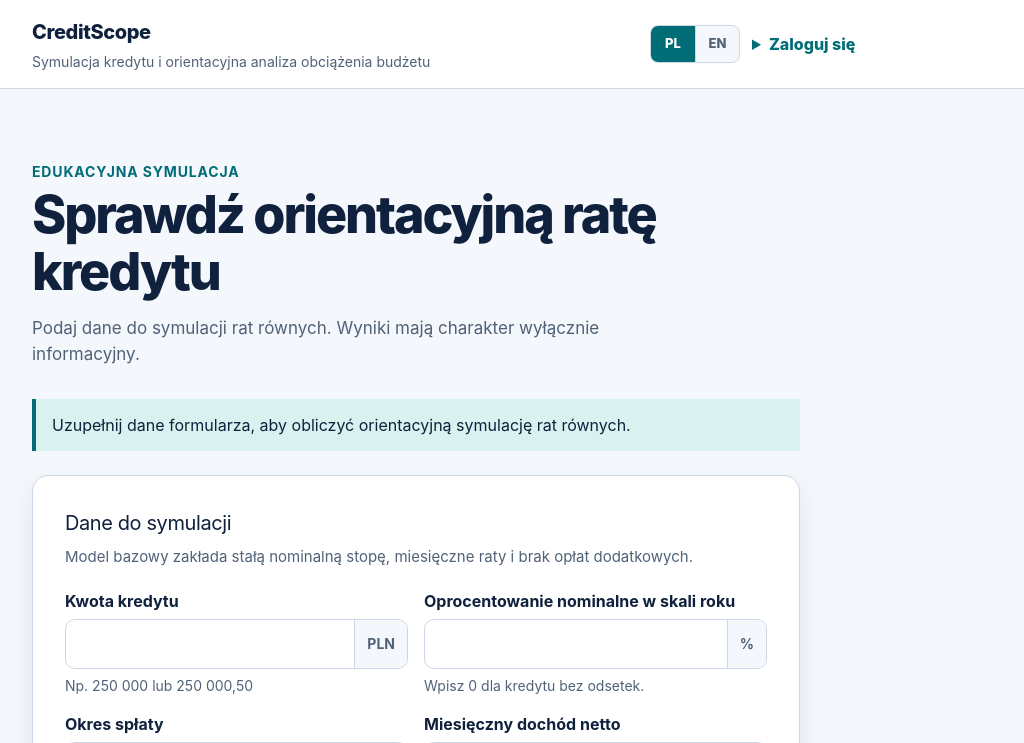
Test: LanguageSwitcher › changes the visible language, document locale, and saved preference without resetting the form
Type "120000" into the field labelled "Kwota kredytu" at (210, 644), box [66,620,354,668]
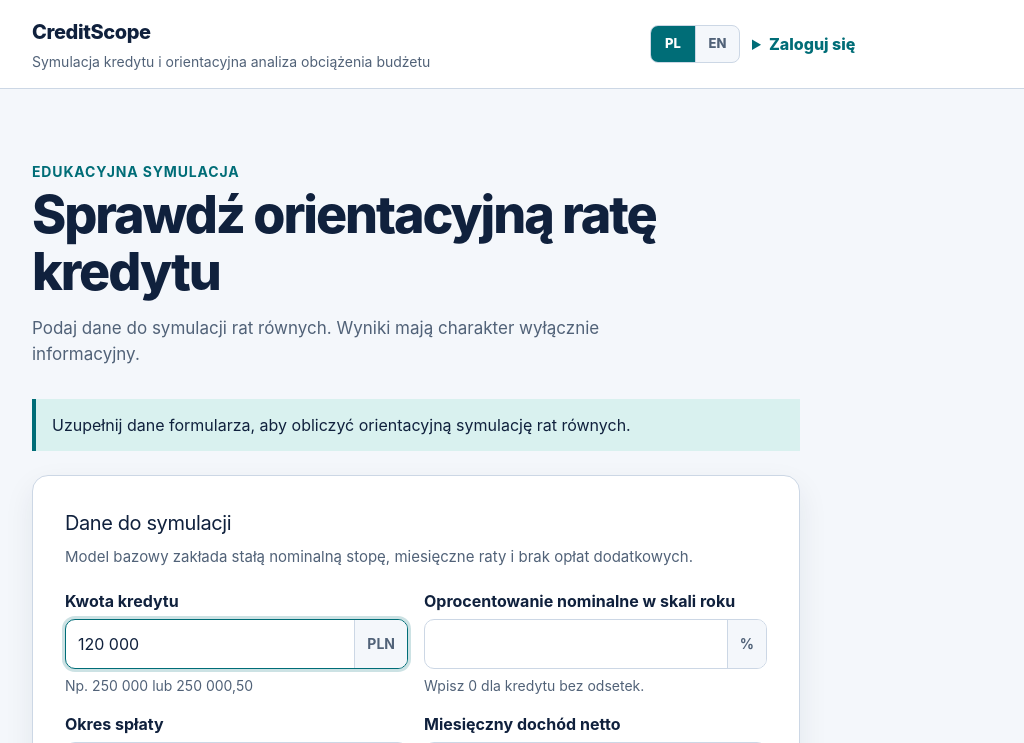
Click the button with aria-label "Angielski" at (717, 44), box [695,26,739,62]
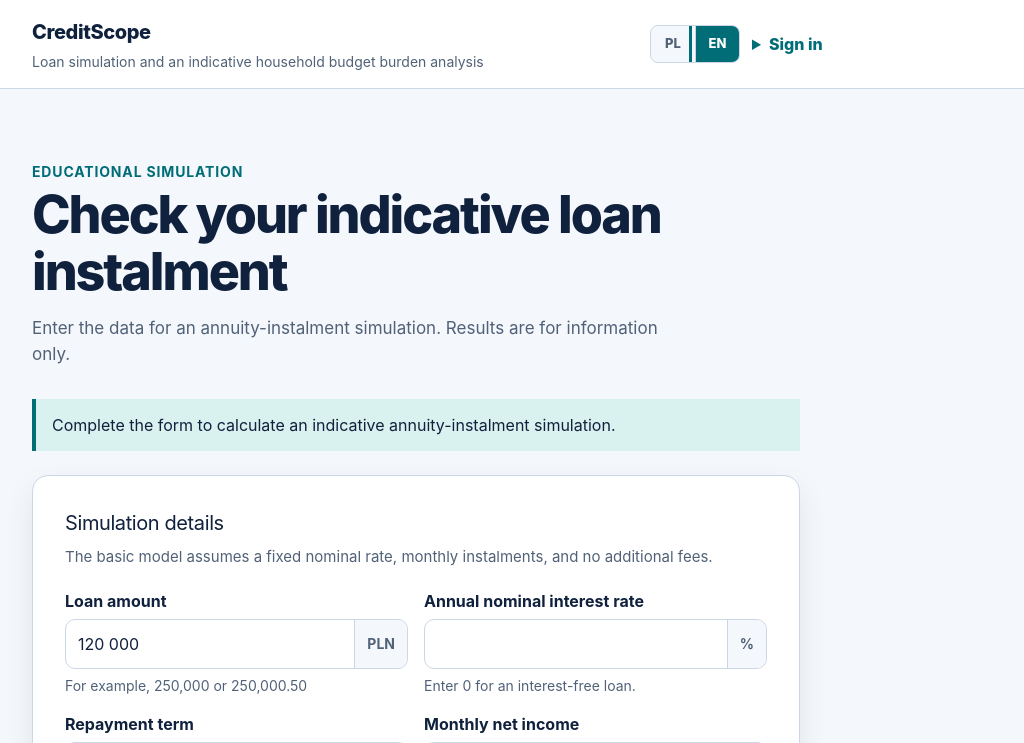
Expected: the field labelled "Loan amount" holds "120 000", [66,620,354,668]
Expected: the heading "Simulation details" is shown, [65,511,224,535]
